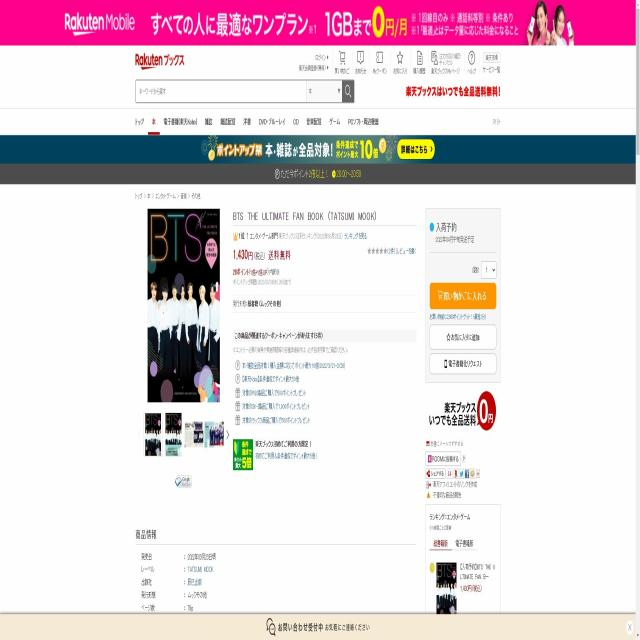button: (430, 283, 496, 310), (430, 325, 496, 349), (430, 353, 496, 374), (343, 80, 354, 102)
input: (136, 80, 306, 102)
select: (306, 80, 342, 102), (482, 262, 496, 278)
